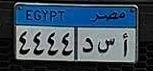4: (31, 29, 45, 57), (45, 30, 59, 57), (18, 29, 31, 56), (60, 32, 74, 57)
alif: (120, 31, 130, 59)
daal: (81, 35, 94, 55)
seen: (97, 37, 116, 56)
